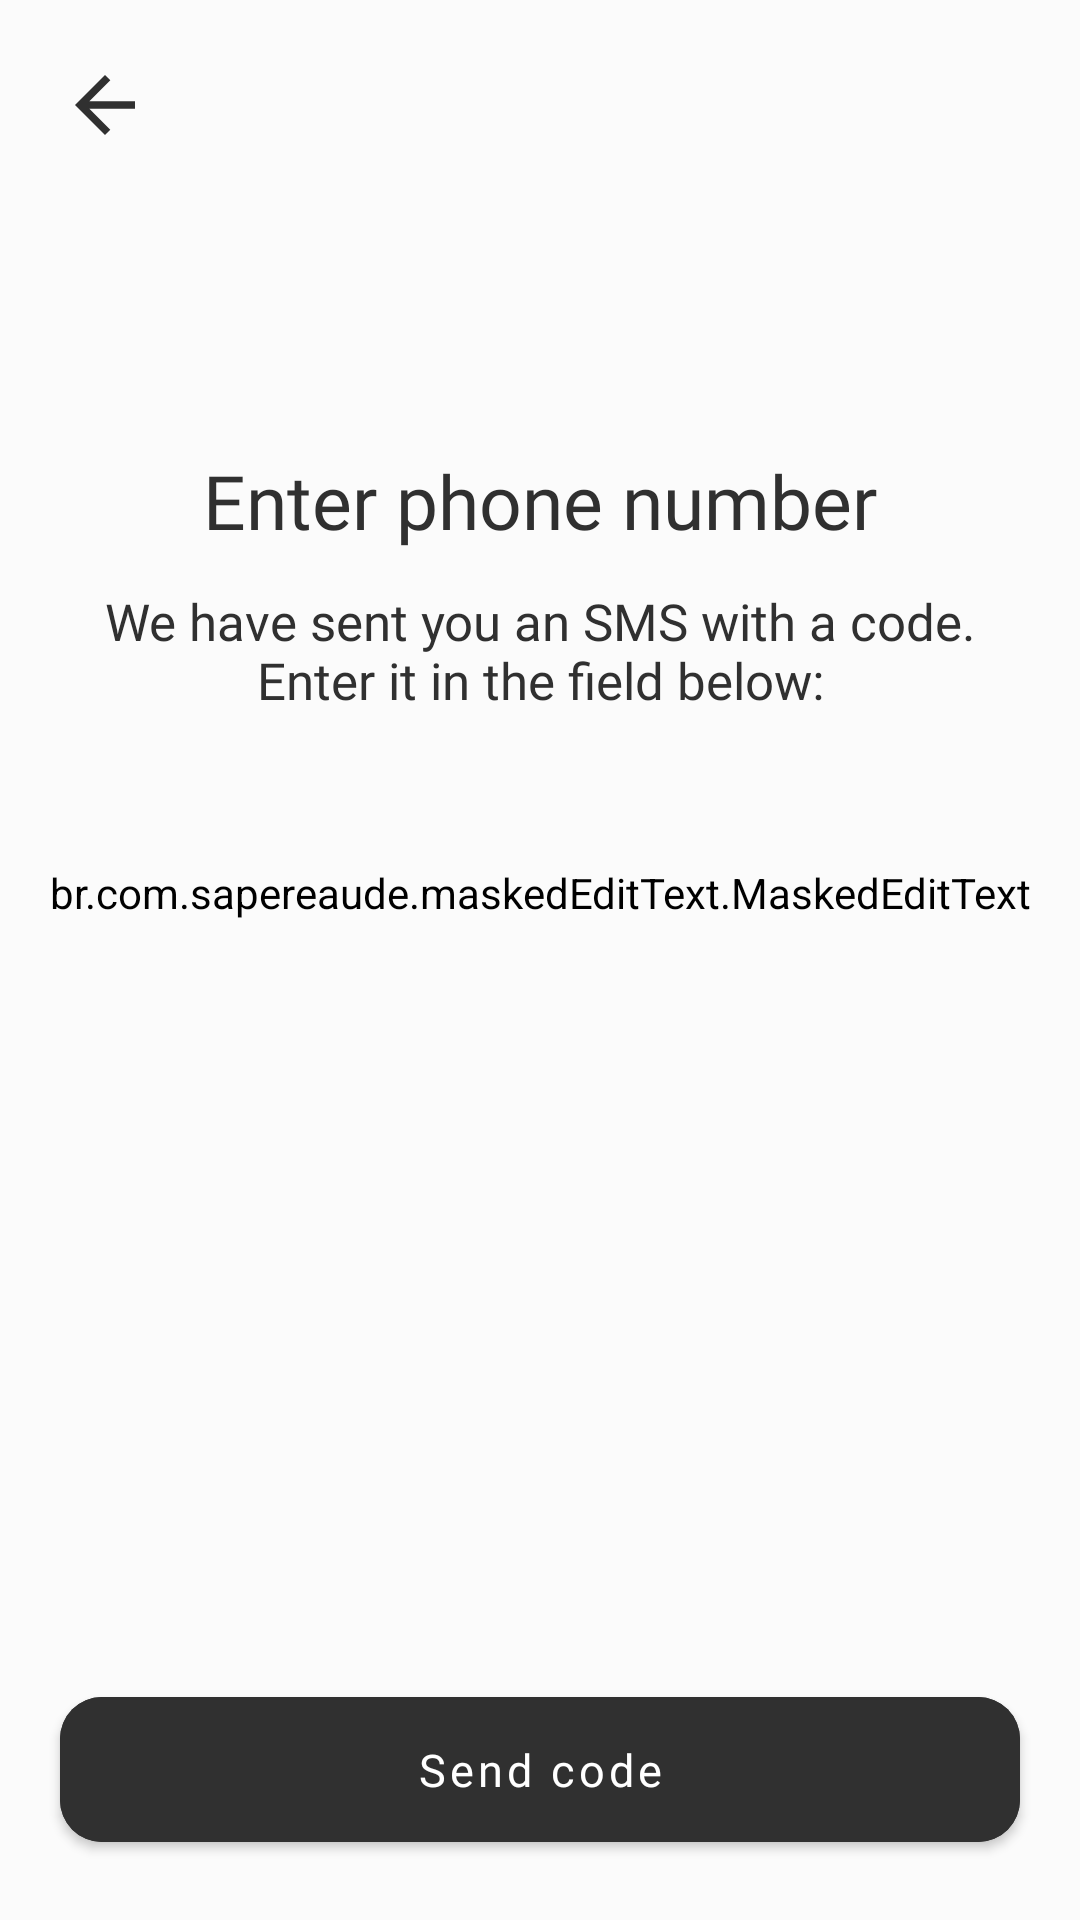

Where to tap for icons on this 1080px×1920px app screen, as (x=x, y=y):
back: (x=105, y=105)
